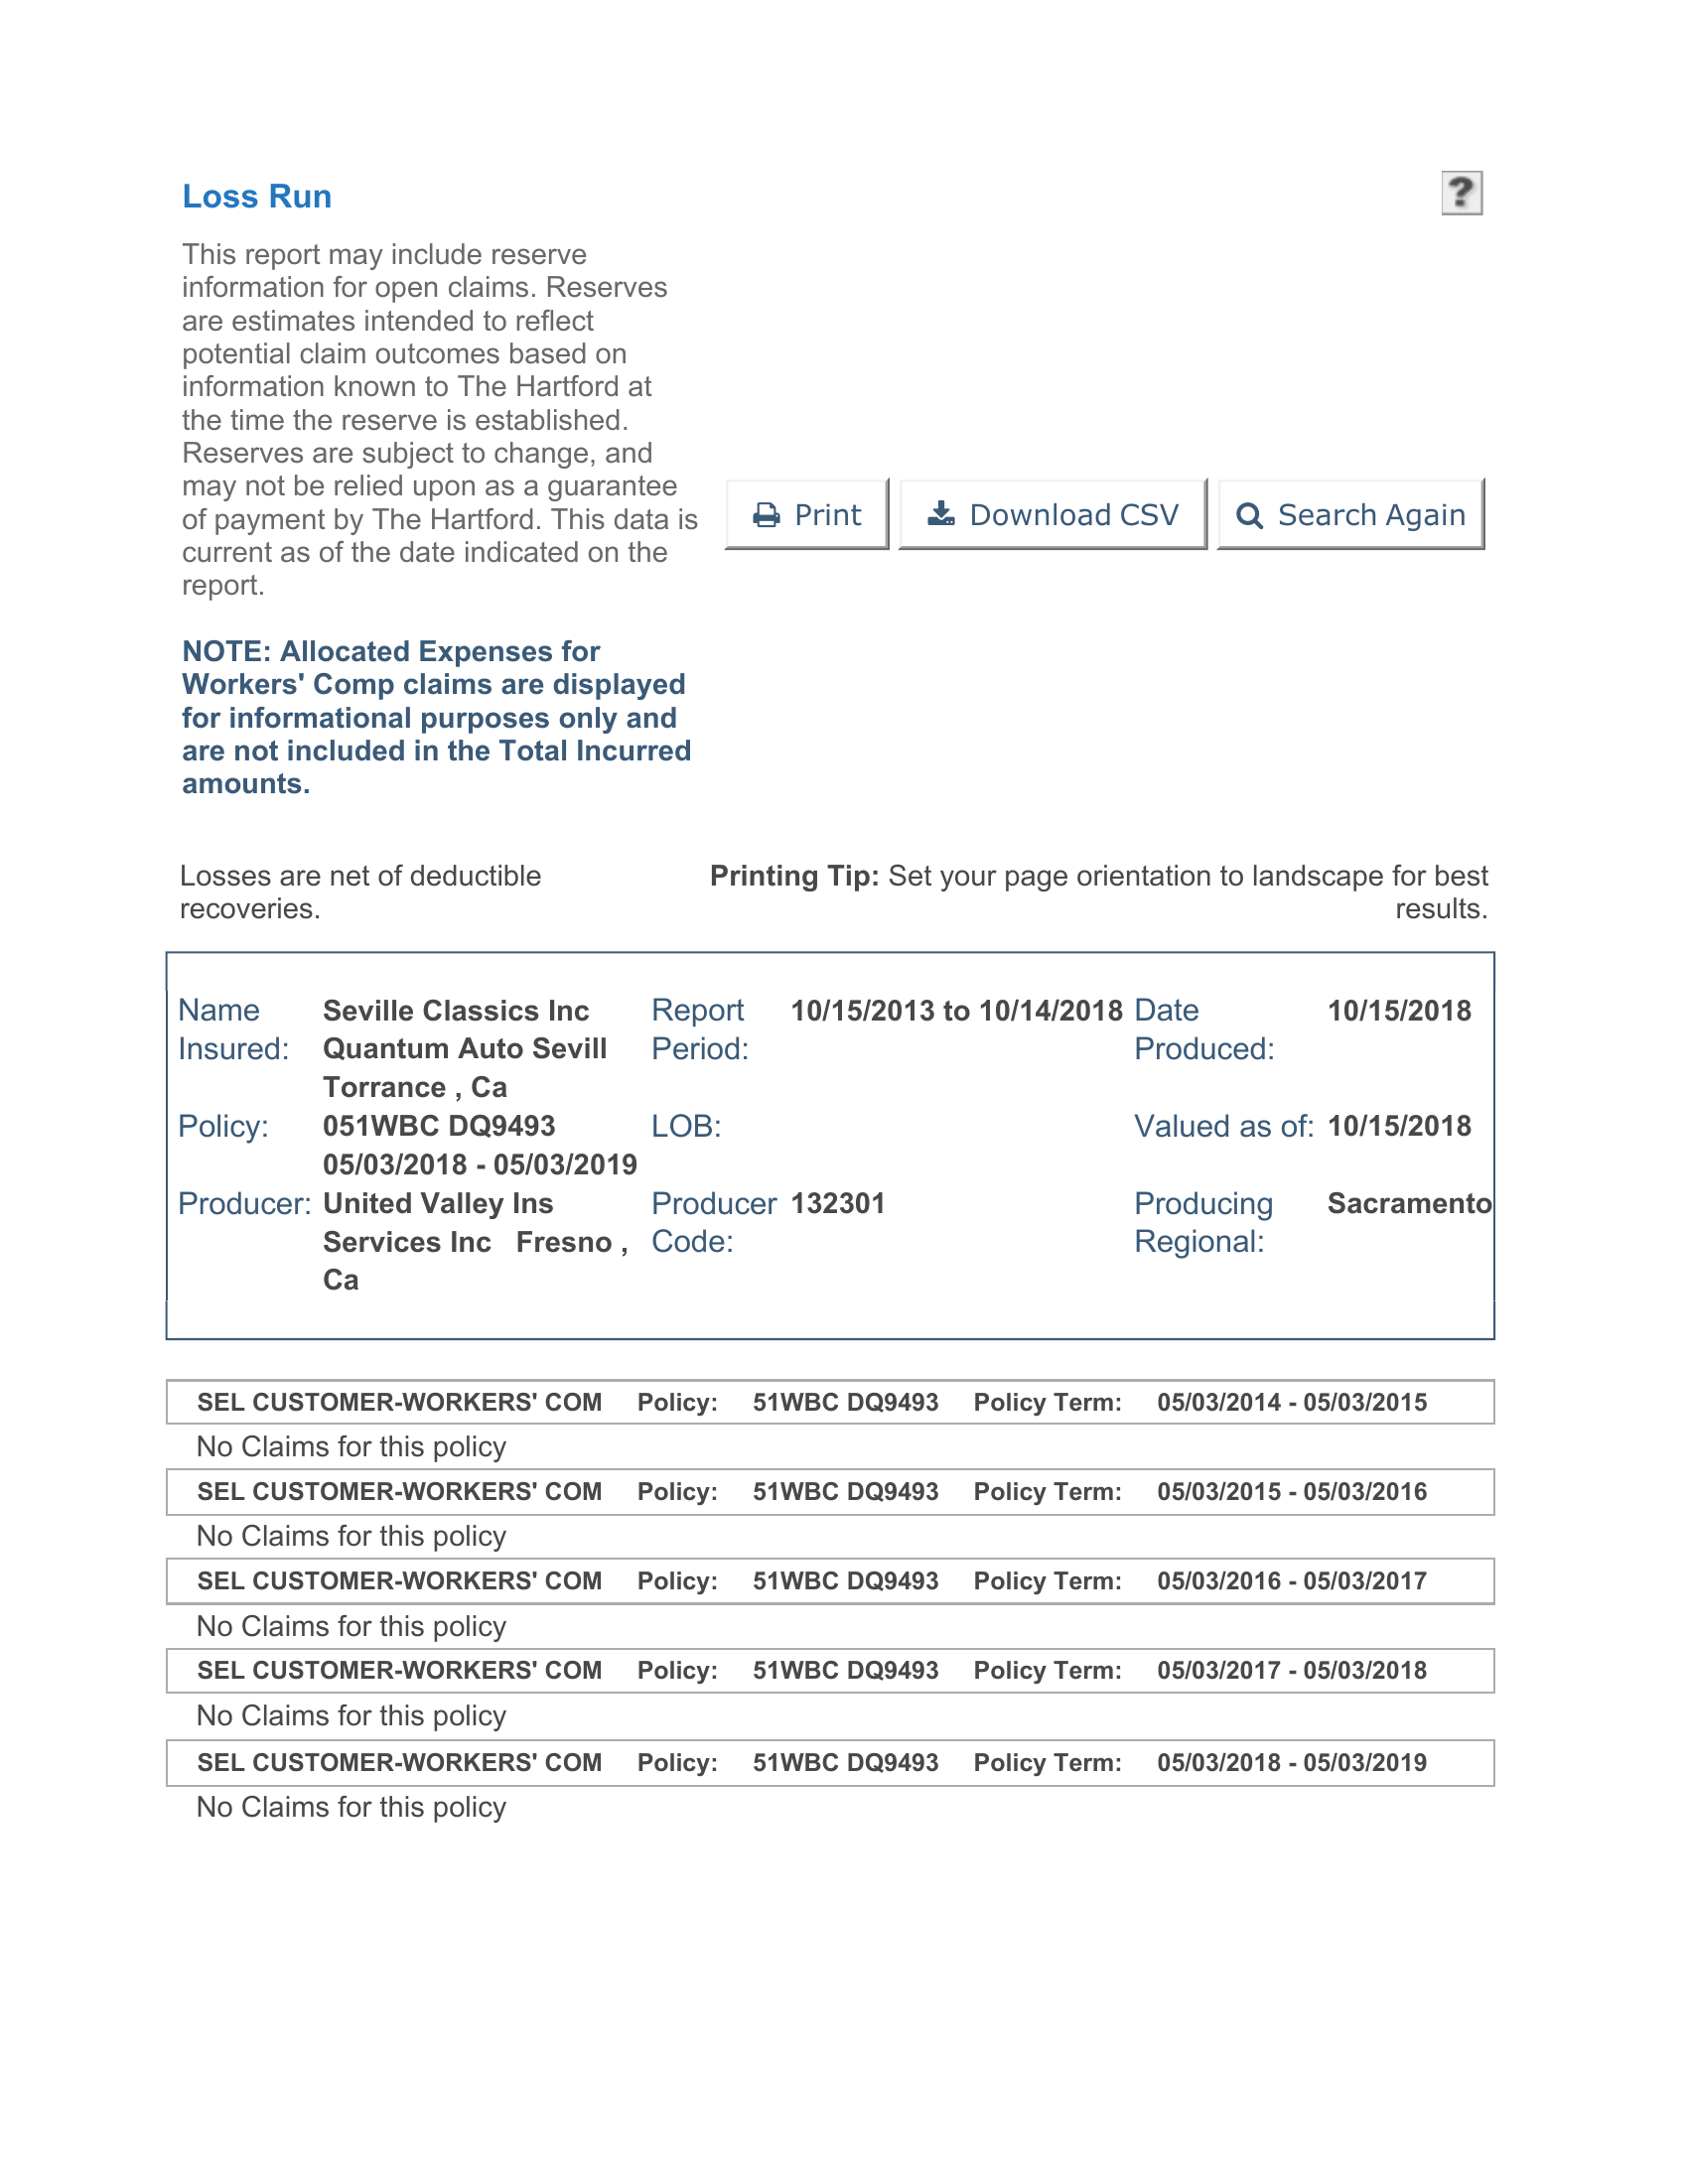No-loss: (152, 929, 1512, 1895)
